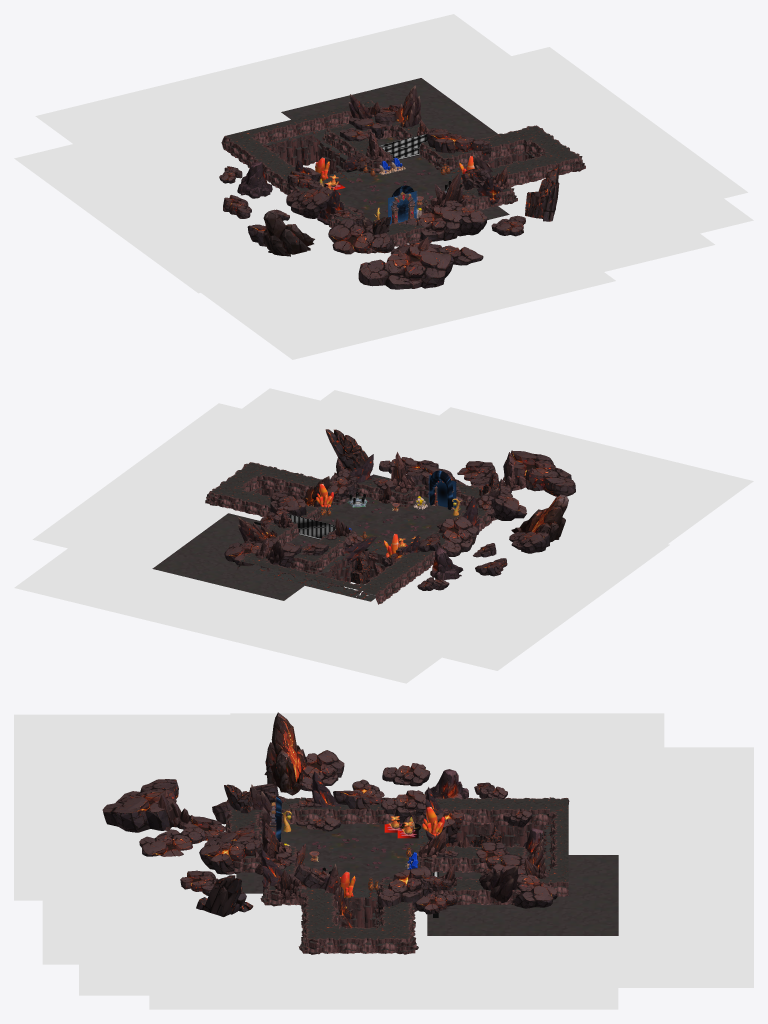
The model's file is LevelMap_1070102.glb.
The picture shows the model from 3 angles, top to bottom: view 1: azimuth 30°, elevation 25°; view 2: azimuth 150°, elevation 25°; view 3: azimuth 270°, elevation 25°; orthographic projection. The views are drawn at different scales.
Parts seen in each view (by area): view 1: EnvCavern_Detail__Lava_1__u2866, EnvCavern_Detail__Lava_3__u1989, EnvCavern_Detail__Lava_2__u3421, EnvCavern_Detail__Lava_6__u1884, EnvCavern_Detail__Lava_5__u2312, EnvCavern_Detail__Lava_4__u2700, LevelMap_1070102_Terrain_1__u3470, LevelMap_1070102_Terrain__u2340, EnvCavern_Detail__Lava__u2970, EnvCavern_Detail__Rock___3__u2696, EnvCavern_Detail__Rock___3__u3149, EnvCavern_Detail__Rock___1__u3417 (+9 smaller); view 2: EnvCavern_Detail__Lava_1__u2866, EnvCavern_Detail__Lava_2__u3421, EnvCavern_Detail__Lava_3__u1989, EnvCavern_Detail__Lava_6__u1884, EnvCavern_Detail__Lava_5__u2312, EnvCavern_Detail__Lava_4__u2700, LevelMap_1070102_Terrain_1__u3470, LevelMap_1070102_Terrain__u2340, EnvCavern_Detail__Lava__u2970, EnvCavern_Detail__Rock___3__u2696, EnvCavern_Detail__Rock___1__u3417, EnvCavern_Detail__Rock___3__u2874 (+11 smaller); view 3: EnvCavern_Detail__Lava_1__u2866, EnvCavern_Detail__Lava_3__u1989, EnvCavern_Detail__Lava_2__u3421, EnvCavern_Detail__Lava_6__u1884, EnvCavern_Detail__Lava_5__u2312, EnvCavern_Detail__Lava_4__u2700, LevelMap_1070102_Terrain_1__u3470, LevelMap_1070102_Terrain__u2340, EnvCavern_Detail__Lava__u2970, EnvCavern_Detail__Rock___3__u2696, EnvCavern_Detail__Rock___1__u3417, EnvCavern_Detail__Rock___3__u3393 (+25 smaller).
Boxes of the visible parts, box(x1,y1,x2,y2) form: EnvCavern_Detail__Lava_1__u2866: box(35, 14, 530, 165); EnvCavern_Detail__Lava_3__u1989: box(191, 206, 615, 359); EnvCavern_Detail__Lava_2__u3421: box(14, 113, 361, 293); EnvCavern_Detail__Lava_6__u1884: box(434, 47, 747, 220); EnvCavern_Detail__Lava_5__u2312: box(502, 146, 753, 259); EnvCavern_Detail__Lava_4__u2700: box(473, 173, 714, 286); LevelMap_1070102_Terrain_1__u3470: box(281, 78, 497, 162); LevelMap_1070102_Terrain__u2340: box(336, 157, 509, 222); EnvCavern_Detail__Lava__u2970: box(364, 57, 597, 134); EnvCavern_Detail__Rock___3__u2696: box(358, 246, 453, 289); EnvCavern_Detail__Rock___3__u3149: box(328, 219, 394, 254); EnvCavern_Detail__Rock___1__u3417: box(263, 209, 314, 256); EnvCavern_Detail__Lava_1__u2866: box(14, 541, 478, 683); EnvCavern_Detail__Lava_2__u3421: box(327, 510, 669, 670); EnvCavern_Detail__Lava_3__u1989: box(370, 407, 753, 544); EnvCavern_Detail__Lava_6__u1884: box(32, 403, 325, 564); EnvCavern_Detail__Lava_5__u2312: box(181, 388, 431, 479); EnvCavern_Detail__Lava_4__u2700: box(259, 390, 496, 477); LevelMap_1070102_Terrain_1__u3470: box(152, 513, 325, 600); LevelMap_1070102_Terrain__u2340: box(319, 474, 466, 547); EnvCavern_Detail__Lava__u2970: box(90, 487, 263, 587); EnvCavern_Detail__Rock___3__u2696: box(503, 450, 575, 496); EnvCavern_Detail__Rock___1__u3417: box(511, 494, 568, 542); EnvCavern_Detail__Rock___3__u2874: box(439, 516, 477, 556); EnvCavern_Detail__Lava_1__u2866: box(565, 747, 753, 987); EnvCavern_Detail__Lava_3__u1989: box(14, 714, 253, 900); EnvCavern_Detail__Lava_2__u3421: box(230, 713, 664, 821); EnvCavern_Detail__Lava_6__u1884: box(149, 942, 618, 1009); EnvCavern_Detail__Lava_5__u2312: box(79, 896, 318, 995); EnvCavern_Detail__Lava_4__u2700: box(42, 868, 282, 964); LevelMap_1070102_Terrain_1__u3470: box(427, 855, 618, 935); LevelMap_1070102_Terrain__u2340: box(236, 823, 417, 893); EnvCavern_Detail__Lava__u2970: box(407, 897, 625, 987); EnvCavern_Detail__Rock___3__u2696: box(102, 779, 178, 832); EnvCavern_Detail__Rock___1__u3417: box(264, 712, 307, 795); EnvCavern_Detail__Rock___3__u3393: box(377, 866, 434, 912).
Bounding box in the file's own units: 73.41 × 14.45 × 77.42.
39 materials, 38 textured.
